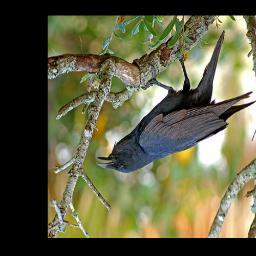Crow: (95, 29, 256, 173)
